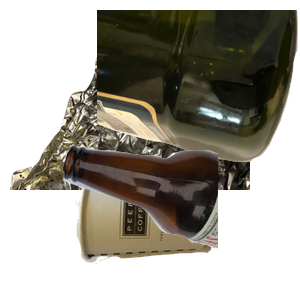glass: (60, 142, 300, 300)
metal: (10, 32, 250, 212)
plastic: (97, 10, 300, 165)
trash: (73, 164, 278, 300)
